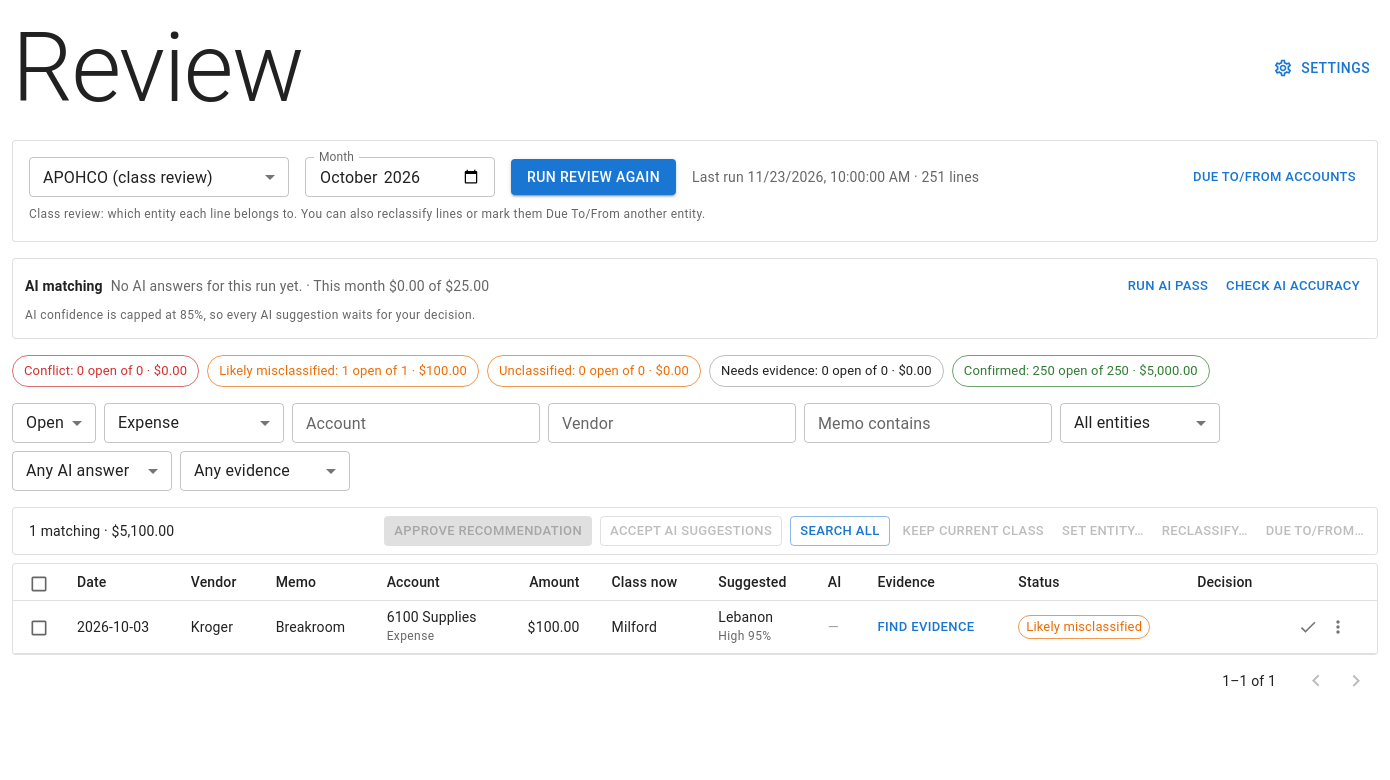
Scenario: ReviewQueue page › approving one line records a decision for that line
This screenshot has width=1390, height=780.
Click the button named "Approve l1".
click(1308, 627)  # box [1292,612,1322,642]
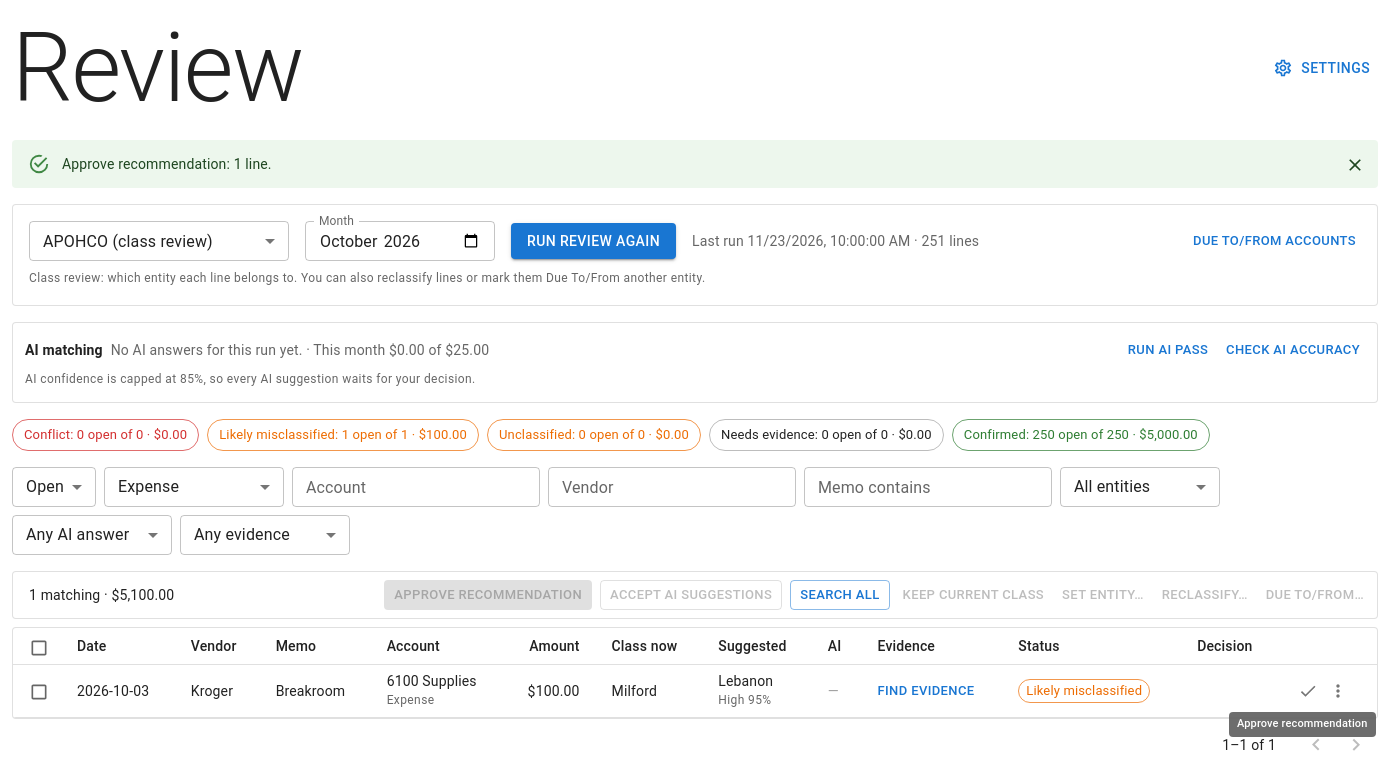
Expected: the text "Approve recommendation: 1 line." is shown, [62,156,272,172]
